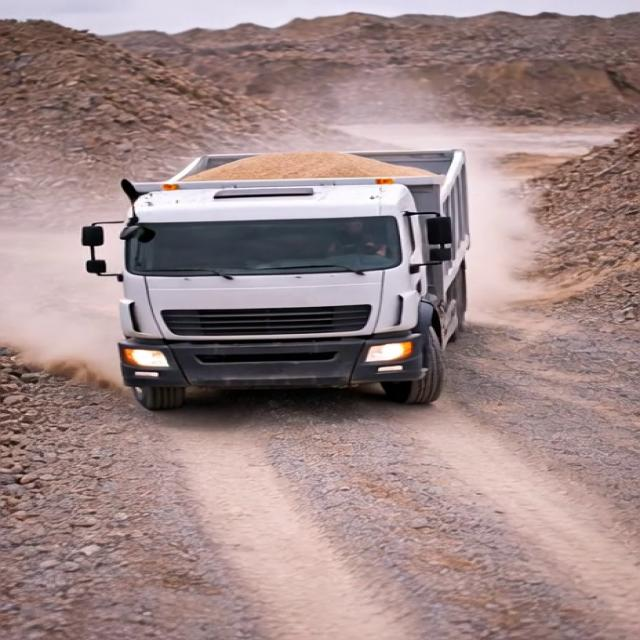Box: (120, 150, 460, 195)
Truck: (77, 144, 482, 406)
